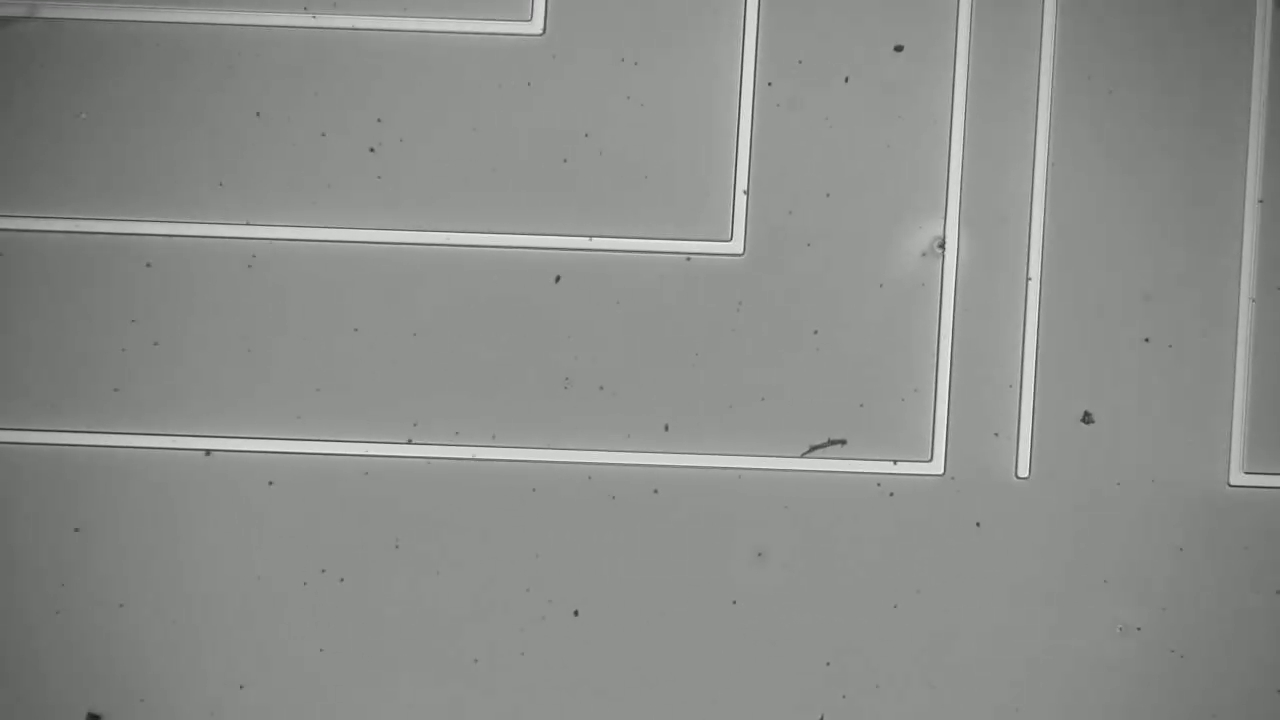stains_enbedded: (925, 224, 965, 260)
